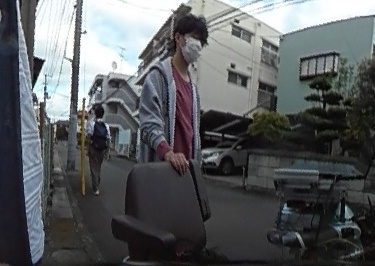person: (138, 15, 212, 157), (87, 102, 110, 190)
